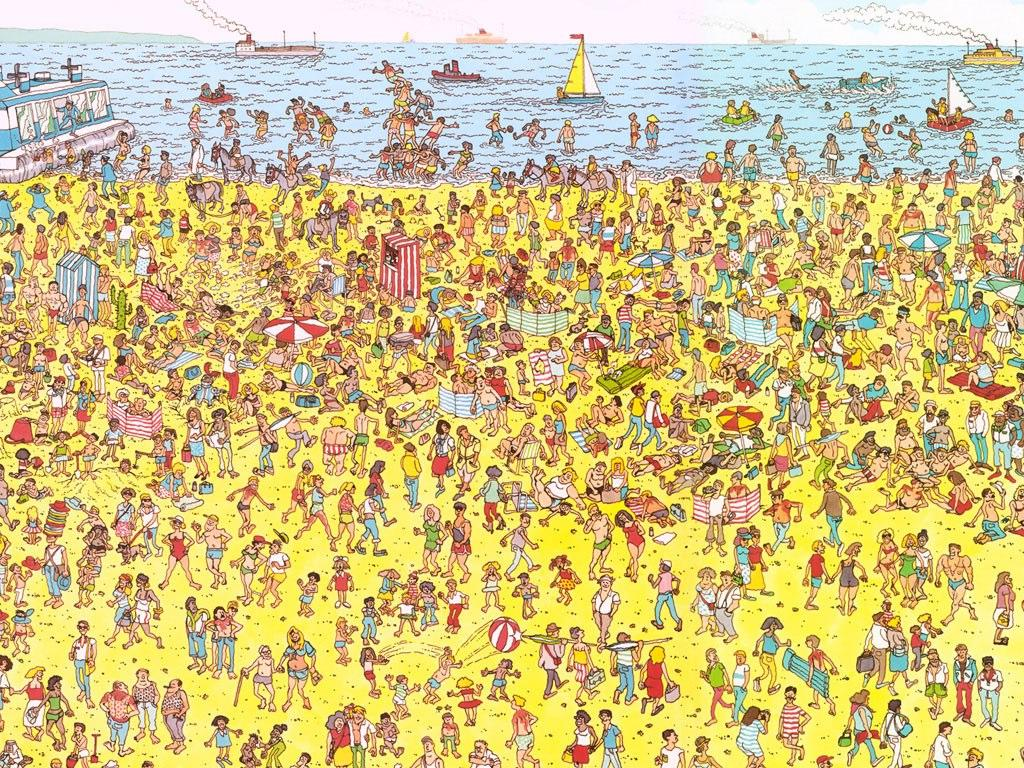waldos: (499, 262, 533, 310)
